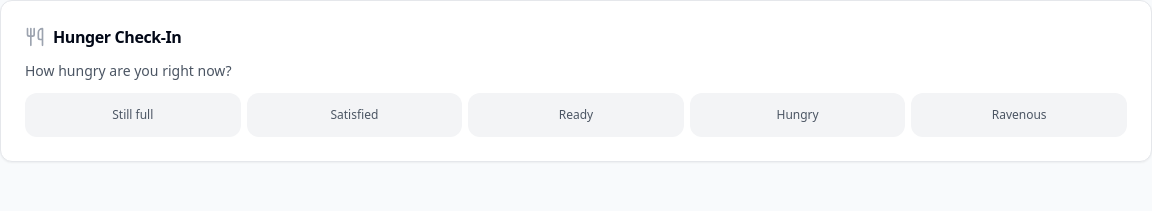
Test: HungerCheckInCard › surfaces a failed save and keeps the buttons up
Click the button "Ready".
click(576, 115)  # box [468, 93, 684, 137]
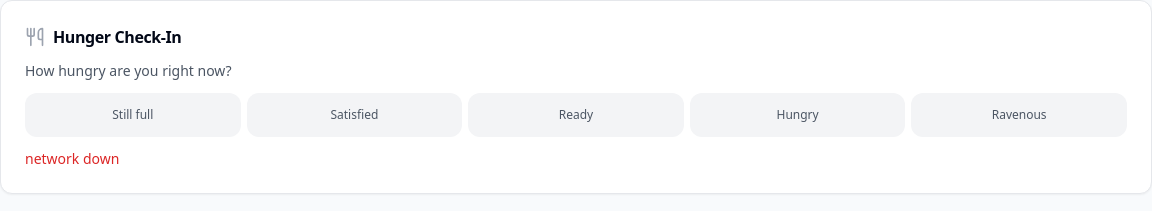
Check: the text "network down" is shown, box [25, 149, 119, 168]
